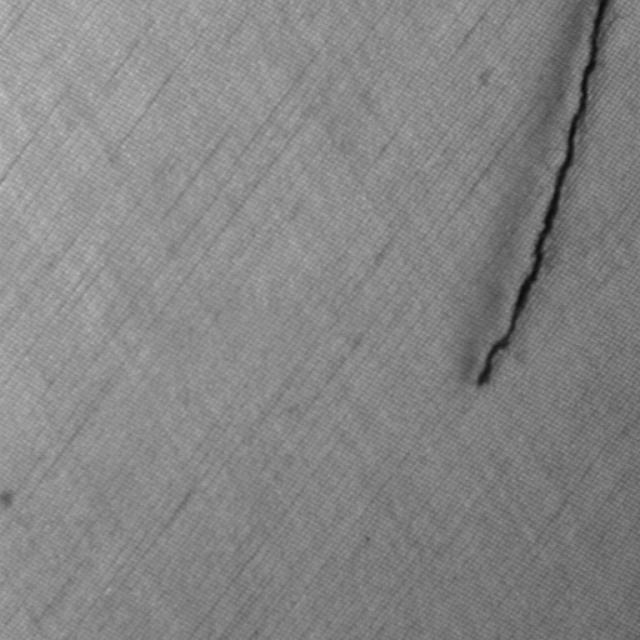objects: (469, 0, 613, 390)
